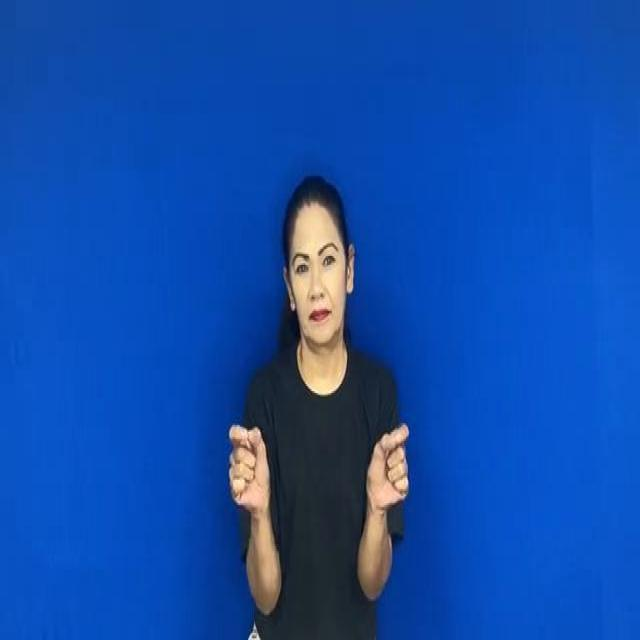crab: (217, 384, 418, 528)
